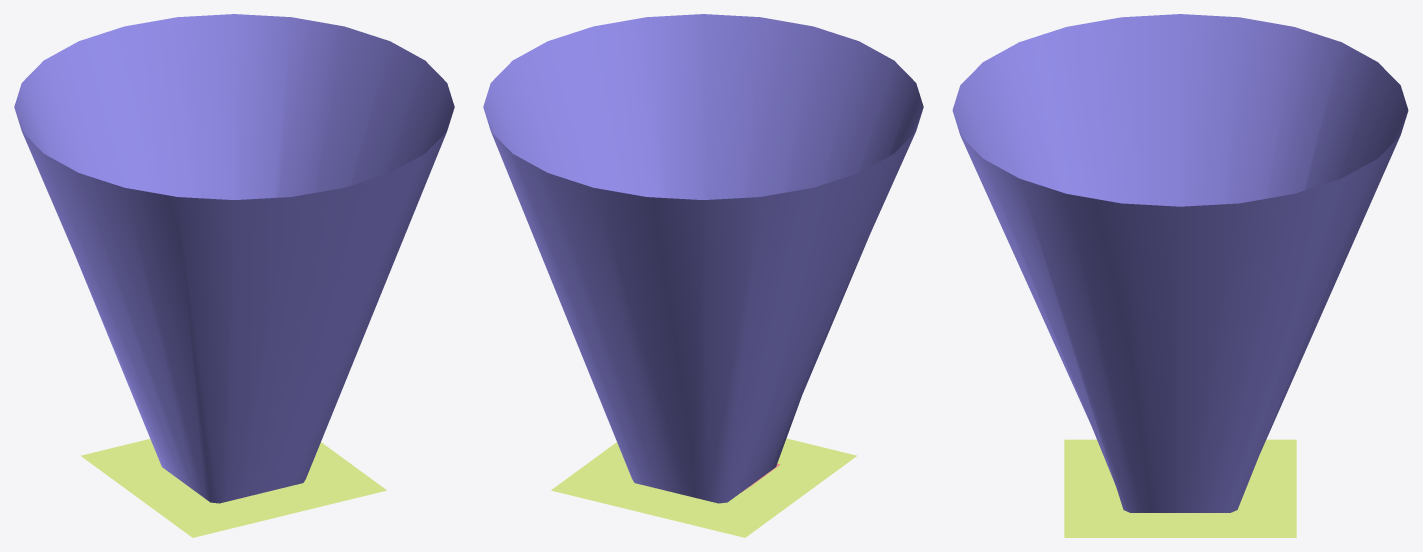
File: Light_DengPian3_1X1_on.FBX
3 views of the same model, side by side, from view 1: azimuth 30°, elevation 25°; view 2: azimuth 150°, elevation 25°; view 3: azimuth 270°, elevation 25° (orthographic). The views are drawn at different scales.
Visible parts, largest first — view 1: Box002; view 2: Box002; view 3: Box002.
Boxes of the visible parts, x1,y1,x2,y2 form: Box002: (14,14,454,537); Box002: (483,14,923,537); Box002: (952,14,1408,537).
Size of the model in its own units: 3.92 by 3.69 by 3.92.
